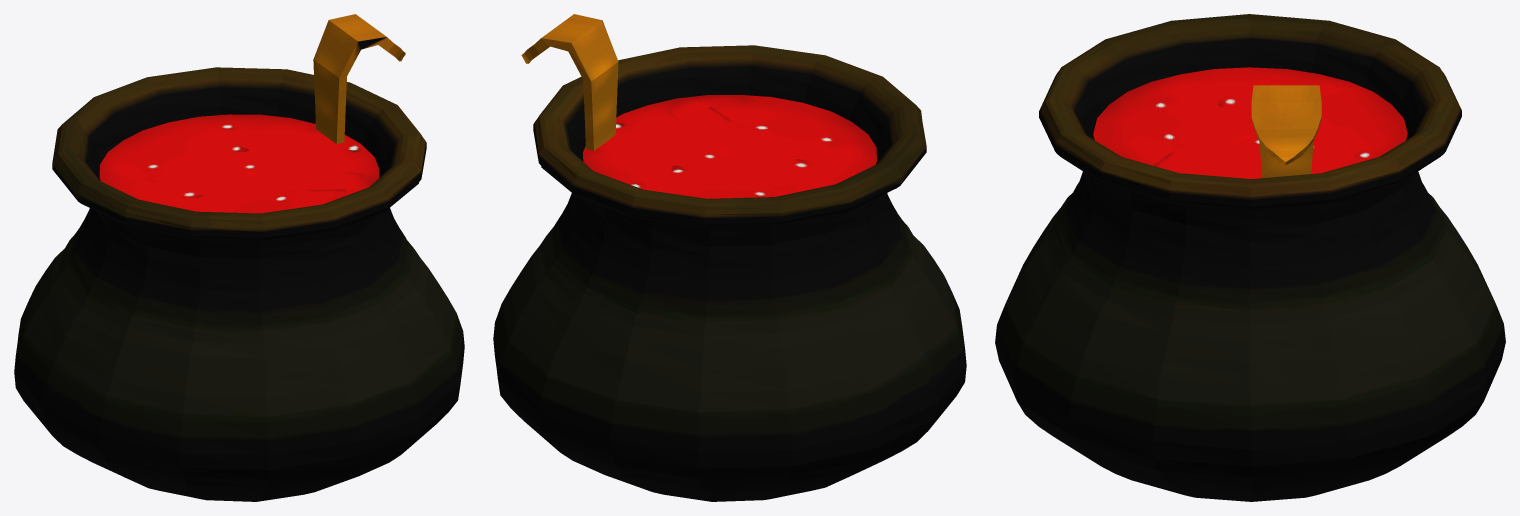
Rendered from punchy.glb.
The picture shows the model from 3 angles, left to right: view 1: azimuth 30°, elevation 25°; view 2: azimuth 150°, elevation 25°; view 3: azimuth 270°, elevation 25°; orthographic projection. The views are drawn at different scales.
Parts seen in each view (by area): view 1: punchy; view 2: punchy; view 3: punchy.
Part boxes in pixels (<box>): punchy: <box>14,14,464,501</box>; punchy: <box>493,14,966,501</box>; punchy: <box>995,14,1505,501</box>.
Size of the model in its own units: 469 by 427 by 469.
Materials: 1 (1 with a texture image).
